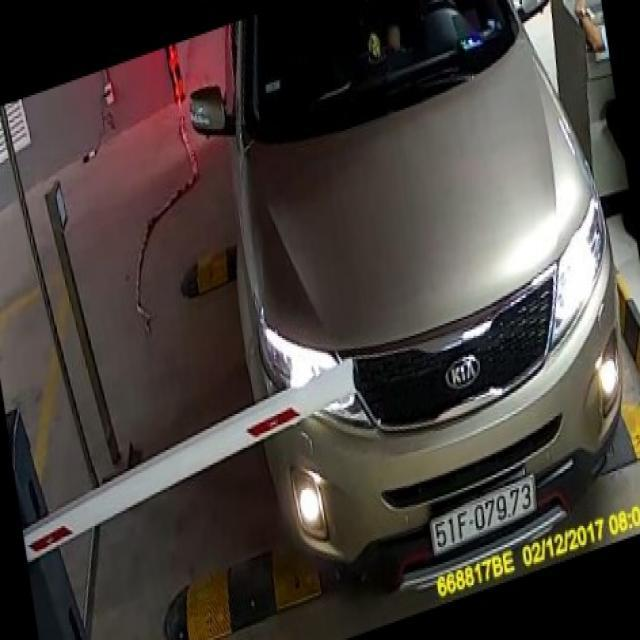car: (183, 2, 631, 604)
plate: (428, 472, 538, 554)
